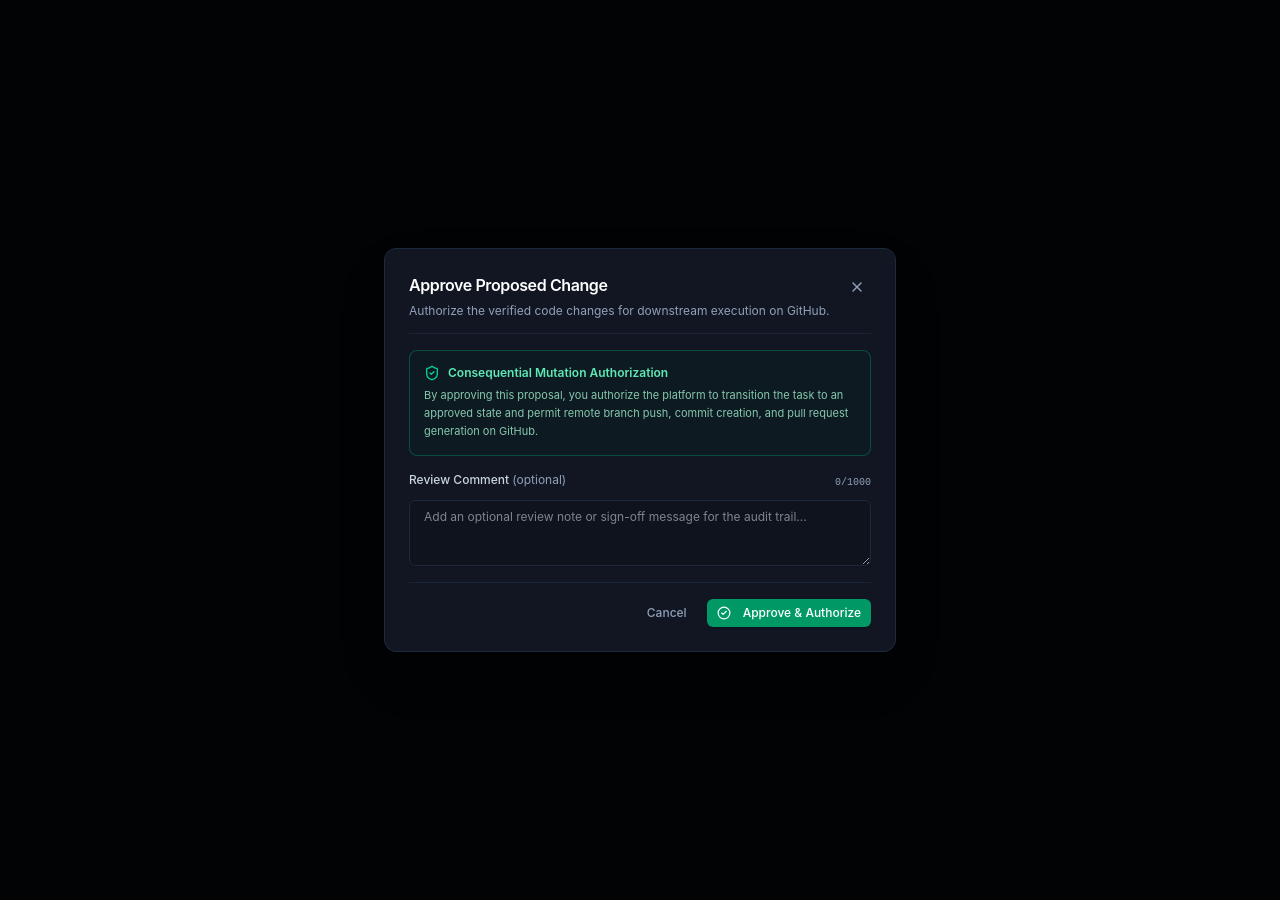
Test: ApproveDialog › handles backend 409 conflict and refreshes authoritative state
This screenshot has width=1280, height=900.
Click the button "Approve & Authorize": [789, 613] box [707, 599, 871, 627]
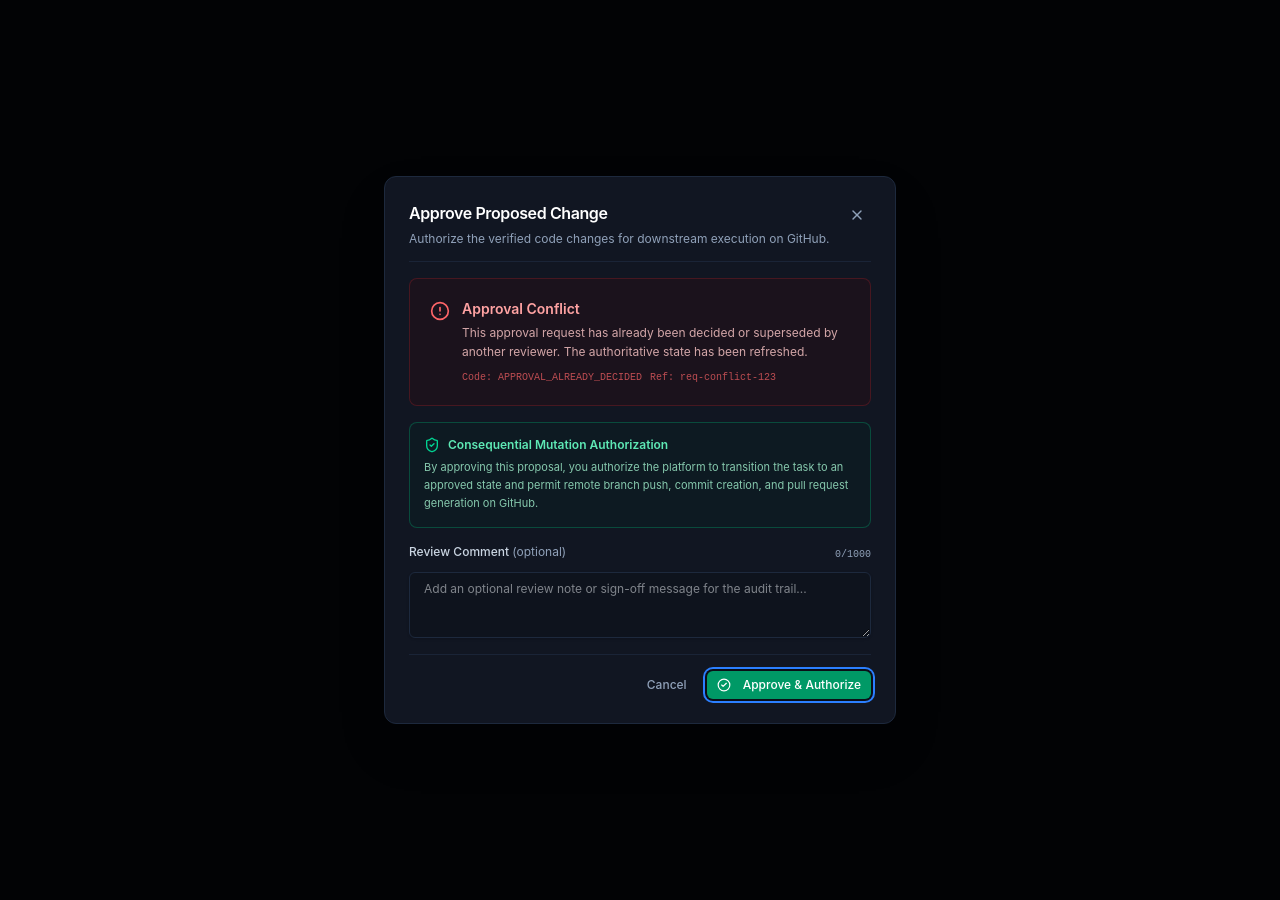
Check: the heading "Approval Conflict" is shown, box [462, 300, 580, 317]
Check: the text "This approval request has already been decided or superseded" is shown, box [462, 325, 838, 359]
